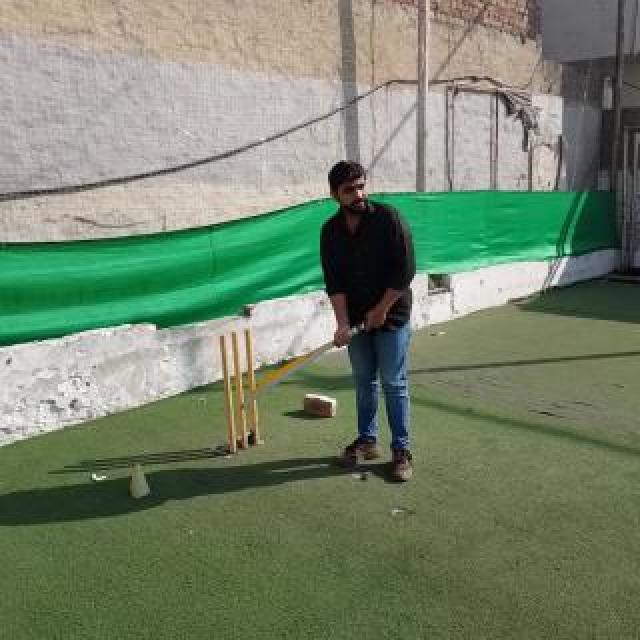bat: (240, 320, 366, 410)
